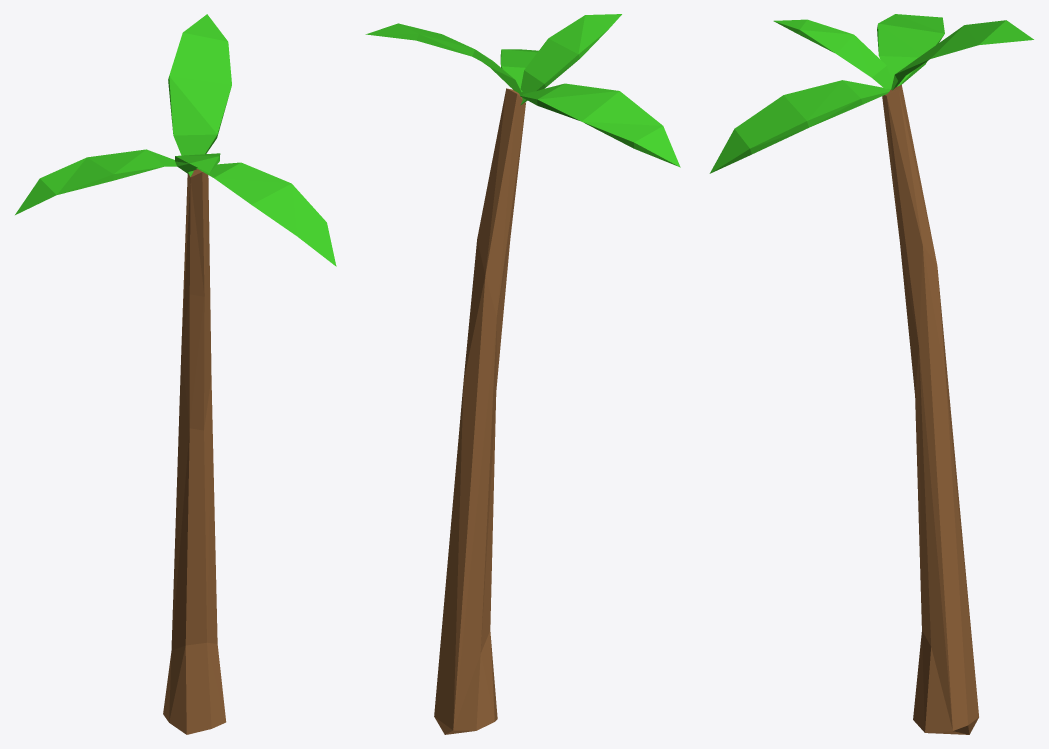
File: palm3.fbx
3 views of the same model, side by side, from view 1: azimuth 30°, elevation 25°; view 2: azimuth 150°, elevation 25°; view 3: azimuth 270°, elevation 25° (orthographic). The views are drawn at different scales.
Parts seen in each view (by area): view 1: tree_palm3; view 2: tree_palm3; view 3: tree_palm3.
Boxes of the visible parts, x1,y1,x2,y2 form: tree_palm3: [15, 14, 336, 734]; tree_palm3: [365, 14, 680, 734]; tree_palm3: [709, 14, 1033, 734].
Size of the model in its own units: 157 by 411 by 169.
